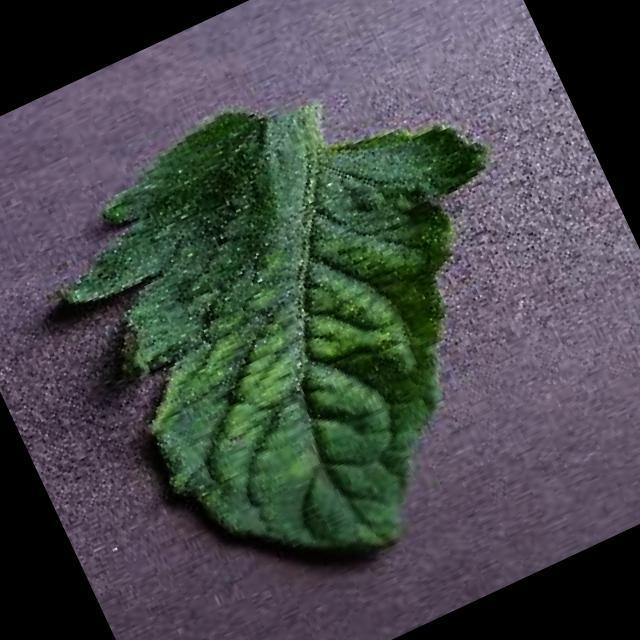Tomato mosaic virus leaf: (22, 17, 624, 631)
